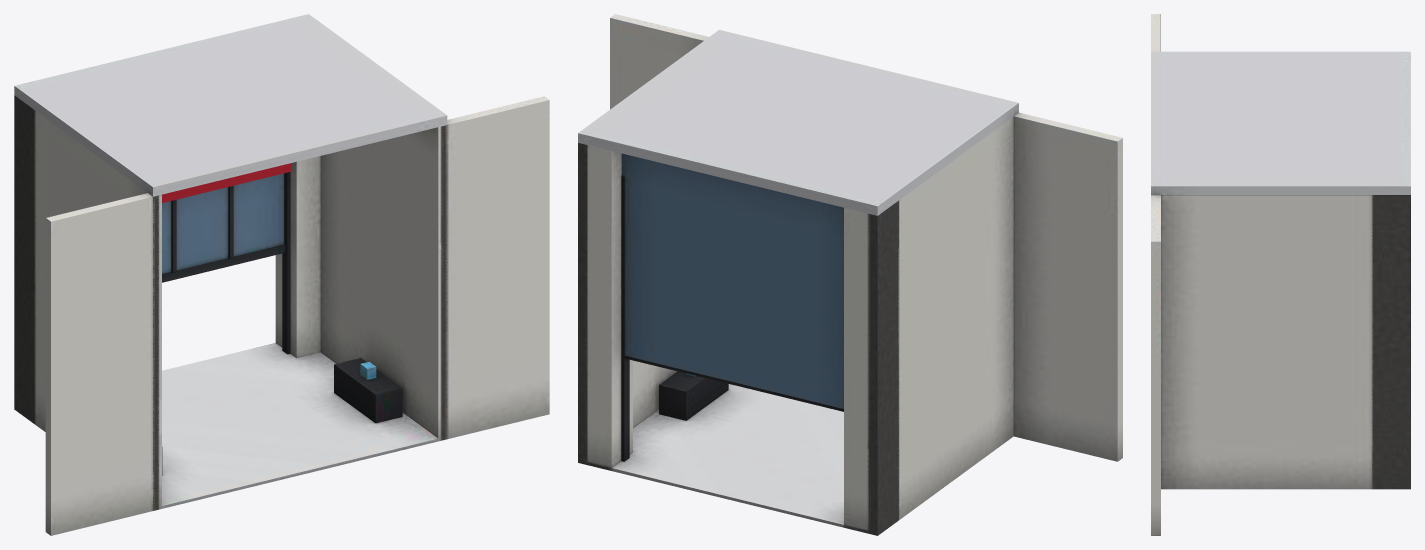
Rendered from super_salida.glb.
3 views of the same model, side by side, from view 1: azimuth 30°, elevation 25°; view 2: azimuth 150°, elevation 25°; view 3: azimuth 270°, elevation 25° (orthographic). The views are drawn at different scales.
Visible parts, largest first — view 1: super_salida; view 2: super_salida; view 3: super_salida.
Boxes of the visible parts, <box> form: super_salida: <box>14,14,549,535</box>; super_salida: <box>578,14,1122,535</box>; super_salida: <box>1151,14,1410,535</box>.
Size of the model in its own units: 16.6 by 10.3 by 8.
Materials: 1 (1 with a texture image).
